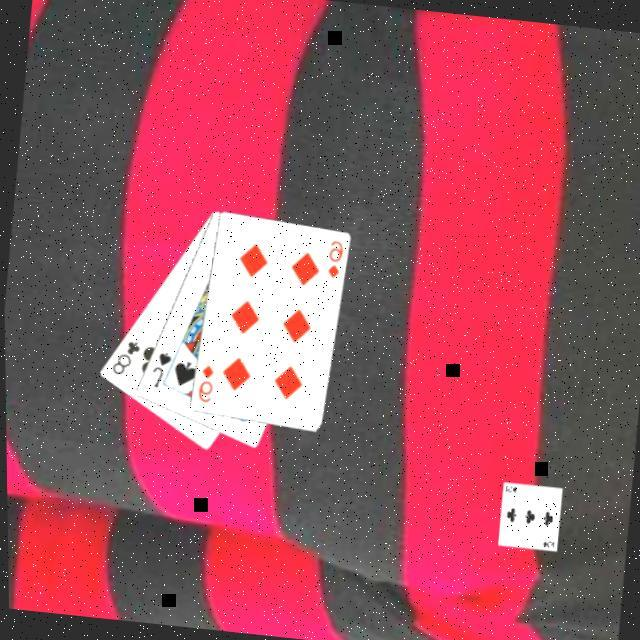6D: (193, 362, 218, 408), (324, 238, 348, 283)
8C: (108, 337, 145, 381)
JS: (147, 349, 175, 393)
